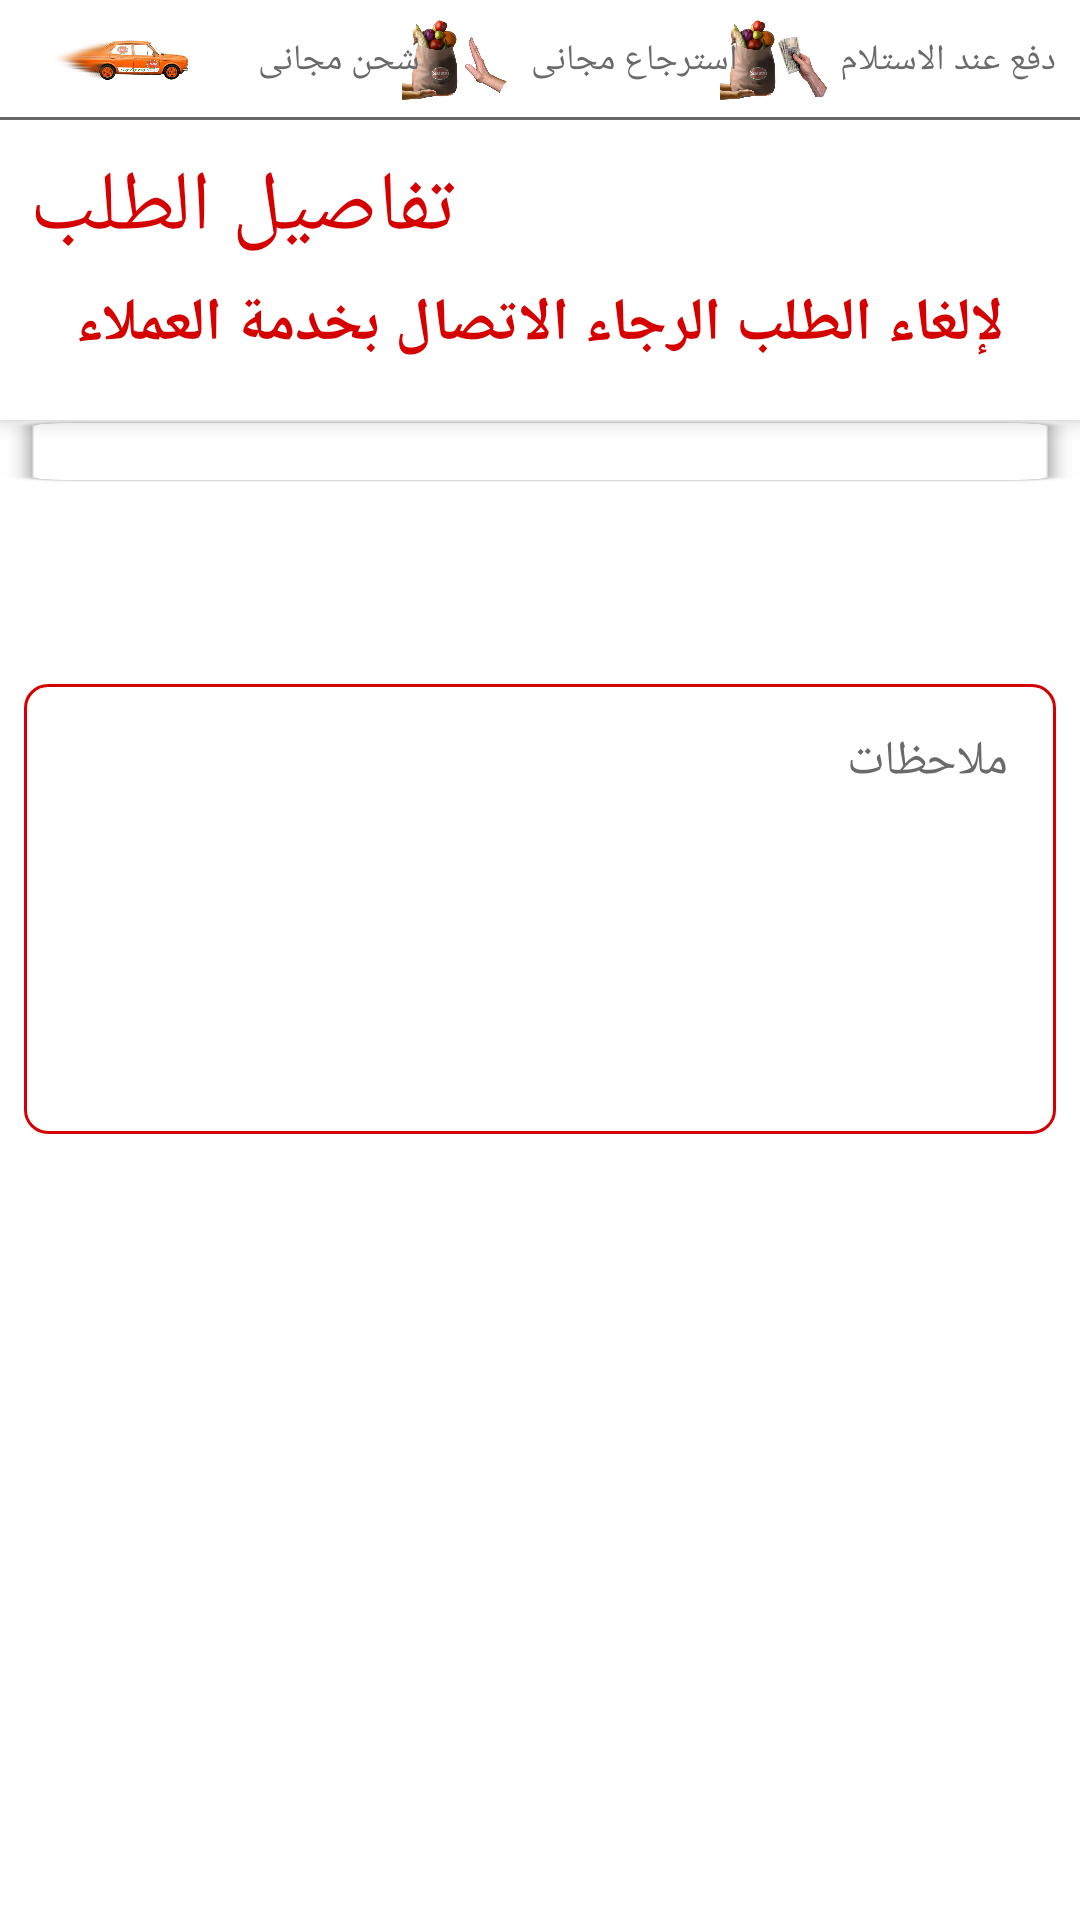

Named icons in this screenshot (1080px x 1920px) and their centers, [x,y]:
cash: [773,60]
freereturn: [454,60]
